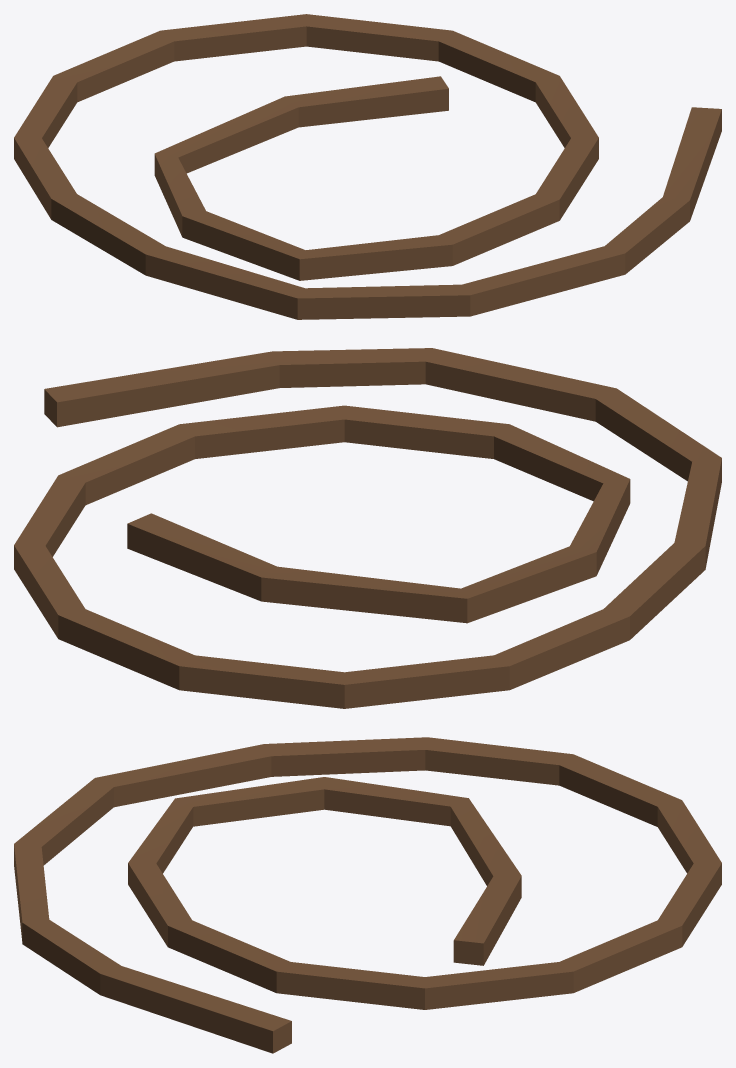
The model's file is Cuerda.glb.
3 views of the same model, one above another, from view 1: azimuth 30°, elevation 25°; view 2: azimuth 150°, elevation 25°; view 3: azimuth 270°, elevation 25° (orthographic). The views are drawn at different scales.
Parts seen in each view (by area): view 1: SM_Prop_Rope_02; view 2: SM_Prop_Rope_02; view 3: SM_Prop_Rope_02.
Part boxes in pixels (x1,y1,x2,y2): SM_Prop_Rope_02: (14, 14, 721, 319); SM_Prop_Rope_02: (14, 348, 721, 708); SM_Prop_Rope_02: (14, 737, 721, 1053).
Size of the model in its own units: 1.17 by 0.0416 by 1.19.
1 material, 1 textured.
